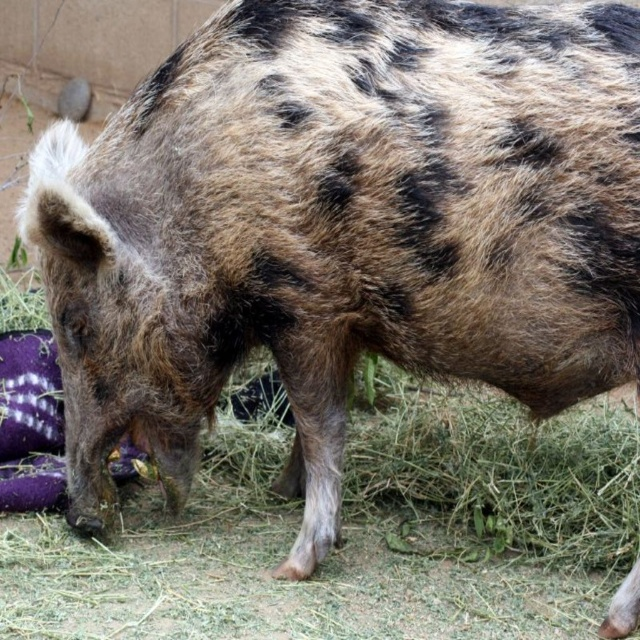Pig: (8, 0, 638, 638)
